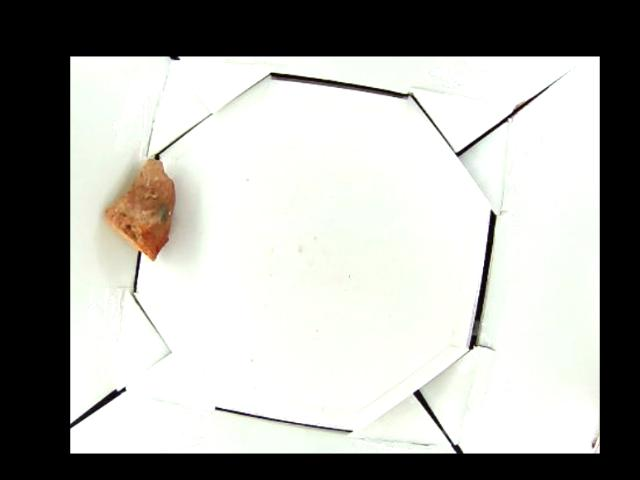Brisk: (106, 159, 174, 259)
